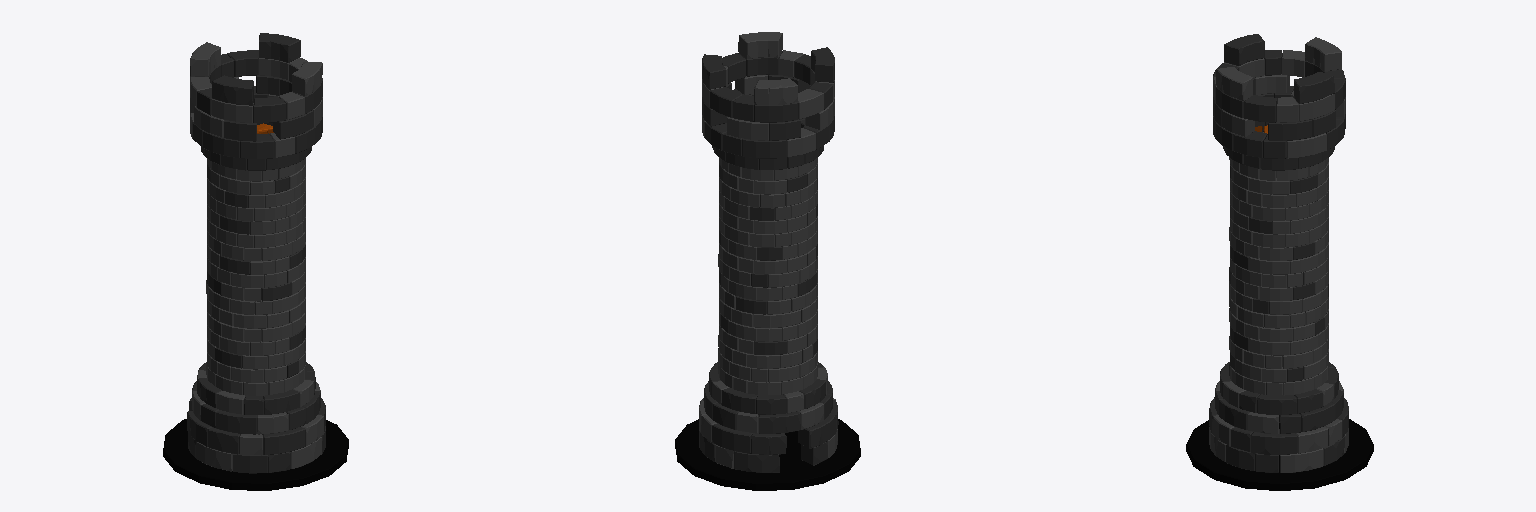
Rendered from tower.obj.
The picture shows the model from 3 angles: view 1: azimuth 30°, elevation 25°; view 2: azimuth 150°, elevation 25°; view 3: azimuth 270°, elevation 25°; orthographic projection.
Parts seen in each view (by area): view 1: Cube.037; view 2: Cube.037; view 3: Cube.037.
Boxes of the visible parts, box(x1,y1,x2,y2) form: Cube.037: box(163, 33, 348, 490); Cube.037: box(675, 32, 860, 490); Cube.037: box(1186, 34, 1373, 490).
Bounding box in the file's own units: 26.46 × 61.14 × 26.46.